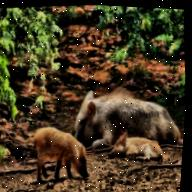boar: (67, 77, 187, 161), (27, 117, 100, 192), (105, 133, 169, 168)
